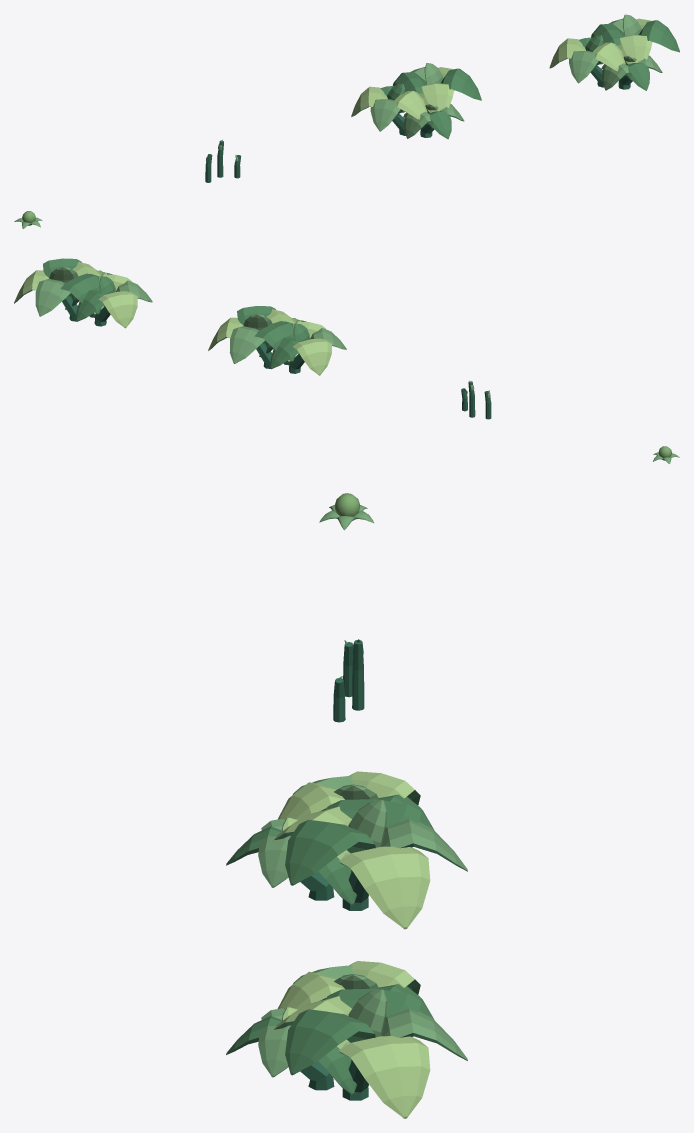
3 views of the same model, one above another, from view 1: azimuth 30°, elevation 25°; view 2: azimuth 150°, elevation 25°; view 3: azimuth 270°, elevation 25° (orthographic). The views are drawn at different scales.
Parts seen in each view (by area): view 1: B_3, B_4, B_2; view 2: B_4, B_3, B_2; view 3: B_4, B_3, B_2, B_1.
Boxes of the visible parts, x1,y1,x2,y2 form: B_3: [351, 63, 481, 139]; B_4: [549, 14, 679, 90]; B_2: [205, 139, 241, 182]; B_4: [14, 258, 152, 328]; B_3: [208, 306, 346, 375]; B_2: [461, 380, 491, 419]; B_4: [226, 961, 467, 1118]; B_3: [226, 771, 467, 929]; B_2: [333, 639, 364, 722]; B_1: [319, 493, 373, 530].
Bounding box in the file's own units: 340 × 28 × 55.
